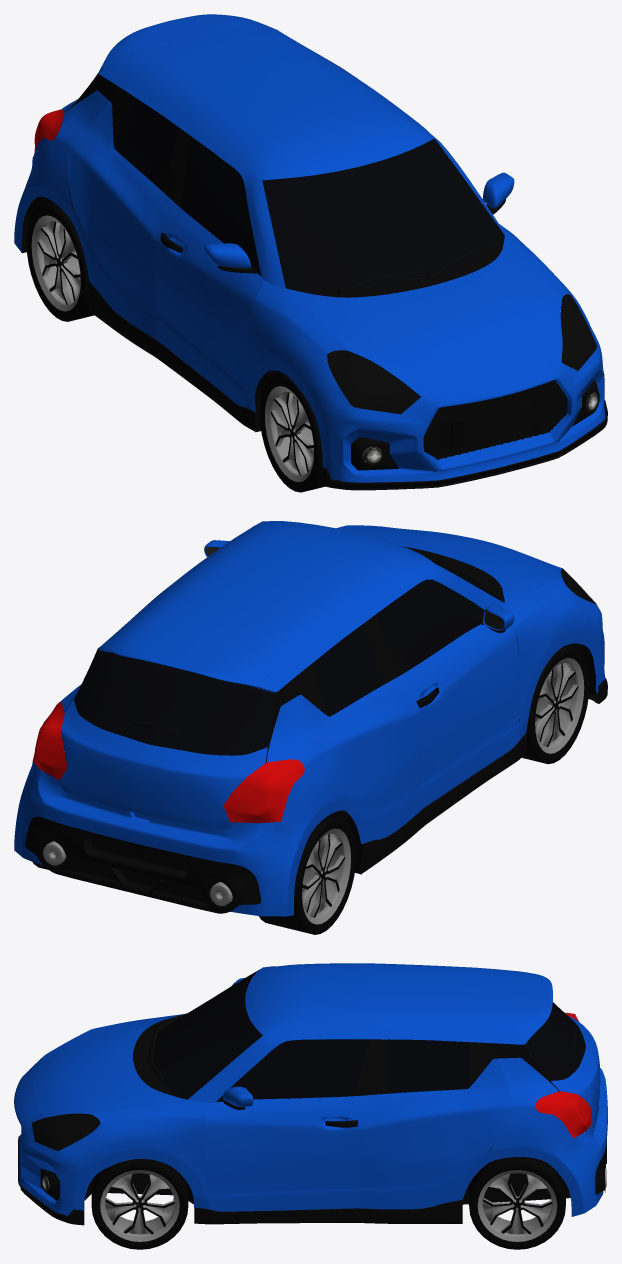
Rendered from SuperminiCar.fbx.
3 renders of one model, top to bottom at view 1: azimuth 30°, elevation 25°; view 2: azimuth 150°, elevation 25°; view 3: azimuth 270°, elevation 25°, orthographic. The views are drawn at different scales.
Visible parts, largest first — view 1: BASIC_BODY, front_mirrors, front_bumper, tire_RR, tire_FR, front_headlight, front_side_mirror, number_plate_tray, rear_side_mirror, side_skirts, bottom_tray, front_bumper_skirt (+9 smaller); view 2: BASIC_BODY, rear_mirror, rear_bumper, rear_bumper_carbon, tire_RR, front_side_mirror, tire_FR, rear_lights, rear_side_mirror, side_skirts, front_bumper, bottom_tray (+6 smaller); view 3: BASIC_BODY, front_mirrors, tire_RL, trire_FL, front_side_mirror, front_bumper, rear_side_mirror, side_skirts, rear_bumper, rear_mirror, front_headlight, rear_lights (+10 smaller).
Part boxes in pixels (x1,y1,x2,y2): BASIC_BODY: (32,14,589,412); front_mirrors: (262,138,504,289); front_bumper: (300,324,605,482); tire_RR: (26,199,94,321); tire_FR: (259,374,355,492); front_headlight: (327,294,596,414); front_side_mirror: (181,136,261,276); number_plate_tray: (423,390,567,450); rear_side_mirror: (114,54,351,189); side_skirts: (88,281,255,431); bottom_tray: (22,187,563,458); front_bumper_skirt: (318,400,607,490); BASIC_BODY: (43,521,589,843); rear_mirror: (74,648,277,755); rear_bumper: (14,761,308,916); rear_bumper_carbon: (25,816,261,913); tire_RR: (259,815,356,934); front_side_mirror: (375,579,484,672); tire_FR: (517,640,589,764); rear_lights: (32,702,304,823); rear_side_mirror: (135,587,381,716); side_skirts: (362,733,526,873); front_bumper: (400,570,605,692); bottom_tray: (223,583,595,874); BASIC_BODY: (32,963,600,1211); front_mirrors: (148,970,262,1099); tire_RL: (469,1157,565,1249); trire_FL: (91,1159,188,1249); front_side_mirror: (216,1039,369,1102); front_bumper: (14,1055,119,1215); rear_side_mirror: (387,1039,469,1093); side_skirts: (194,1200,462,1224); rear_bumper: (547,1068,607,1216); rear_mirror: (522,1002,585,1080); front_headlight: (32,1058,100,1150); rear_lights: (535,1012,592,1138).
Size of the model in its own units: 232 by 190 by 486.
